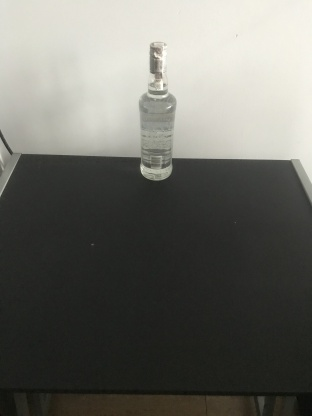nakretka: (147, 39, 169, 74)
